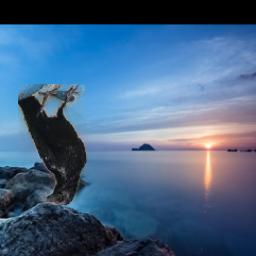Crow: (17, 84, 86, 205)
